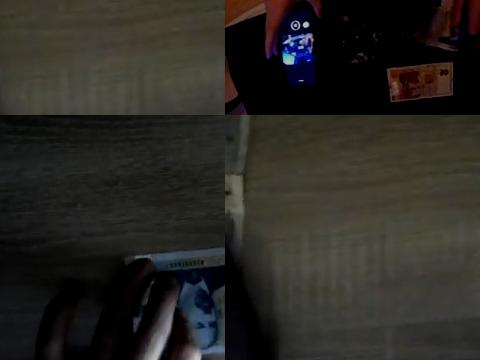20leva: (155, 248, 225, 353)
50leva: (386, 59, 454, 102)
